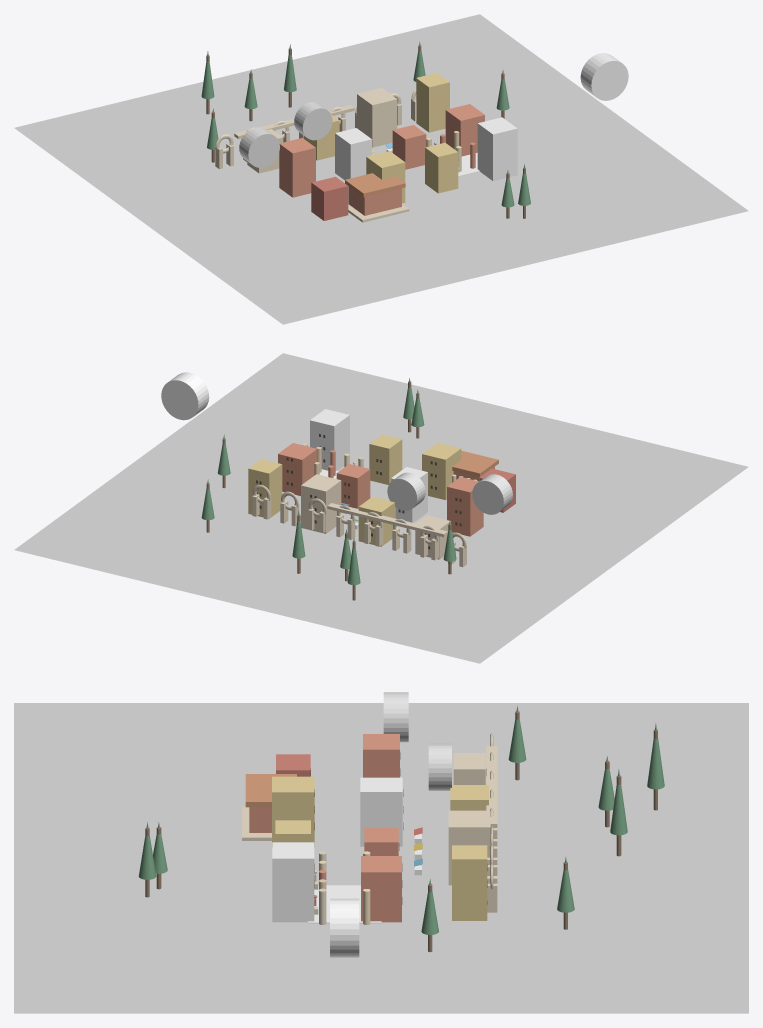
The model's file is RomanInsulae.glb.
3 renders of one model, top to bottom at view 1: azimuth 30°, elevation 25°; view 2: azimuth 150°, elevation 25°; view 3: azimuth 270°, elevation 25°, orthographic. The views are drawn at different scales.
Visible parts, largest first — view 1: Roman_Streets, Building_3, Building_10, Building_4, Arch_Constantine_Opening, Building_11, Building_5, Building_2, Building_0, Building_7, Arch_Septimius_Opening, Building_6 (+5 smaller); view 2: Roman_Streets, Building_3, Arch_Constantine_Opening, Building_10, Building_4, Building_1, Building_7, Building_11, Building_2, Arch_Septimius_Opening, Building_6, Arch_Titus_Opening (+5 smaller); view 3: Roman_Streets, Building_3, Building_11, Building_7, Building_5, Building_1, Arch_Constantine_Opening, Building_10, Building_4, Arch_Septimius_Opening, Arch_Titus_Opening, Building_8 (+12 smaller).
Part boxes in pixels (box(x1,y1,x2,y2)): Roman_Streets: box(14, 14, 748, 324); Building_3: box(477, 117, 517, 181); Building_10: box(357, 88, 397, 147); Building_4: box(279, 138, 315, 197); Arch_Constantine_Opening: box(580, 53, 628, 100); Building_11: box(416, 73, 449, 132); Building_5: box(335, 128, 371, 179); Building_2: box(425, 142, 458, 193); Building_0: box(311, 176, 348, 220); Building_7: box(445, 104, 484, 156); Arch_Septimius_Opening: box(239, 127, 279, 167); Building_6: box(392, 125, 426, 169); Roman_Streets: box(14, 353, 748, 663); Building_3: box(310, 409, 349, 470); Arch_Constantine_Opening: box(161, 372, 209, 420); Building_10: box(301, 474, 341, 533); Building_4: box(447, 477, 483, 536); Building_1: box(422, 443, 461, 500); Building_7: box(278, 443, 317, 495); Building_11: box(248, 459, 282, 518); Building_2: box(369, 434, 402, 484); Arch_Septimius_Opening: box(472, 474, 512, 514); Building_6: box(336, 464, 370, 508); Arch_Titus_Opening: box(387, 472, 425, 510); Roman_Streets: box(14, 703, 748, 1013); Building_3: box(272, 842, 314, 922); Building_11: box(452, 845, 487, 920); Building_7: box(361, 856, 401, 922); Building_5: box(360, 777, 402, 846); Building_1: box(272, 776, 314, 847); Arch_Constantine_Opening: box(330, 898, 359, 957); Building_10: box(448, 810, 490, 885); Building_4: box(363, 734, 399, 777); Arch_Septimius_Opening: box(383, 692, 408, 742); Arch_Titus_Opening: box(428, 743, 451, 790); Building_8: box(453, 753, 485, 784).
Bounding box in the file's own units: 100 × 14.5 × 100.
